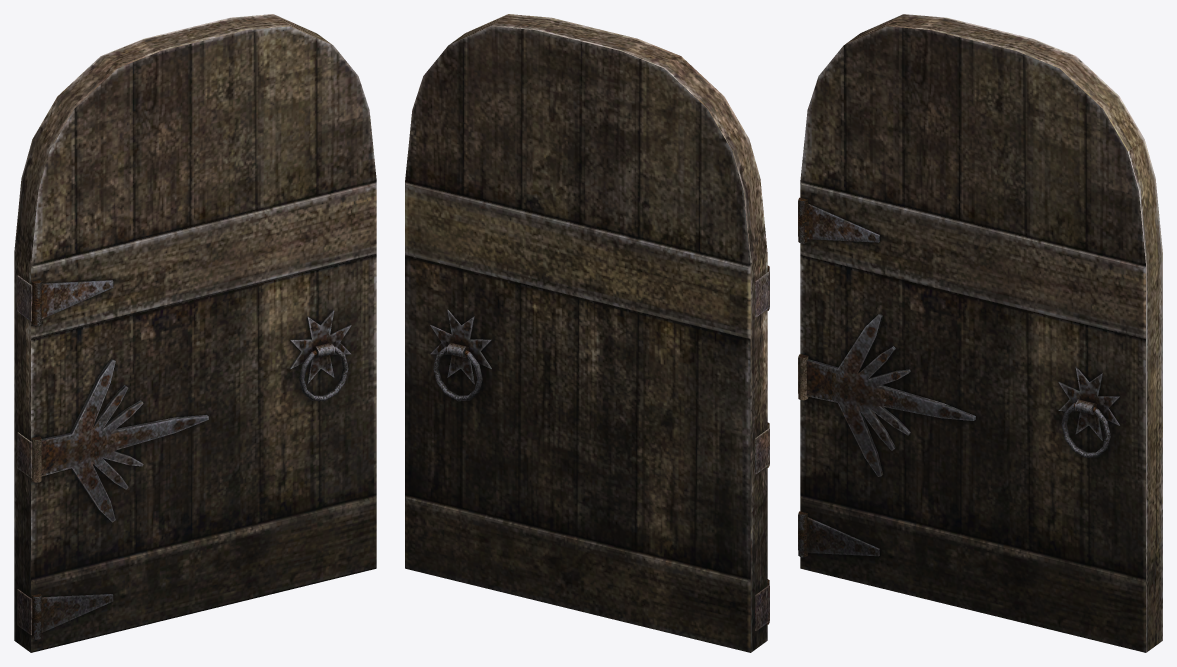
Rendered from castle_arched01.dae.
3 renders of one model, left to right at view 1: azimuth 30°, elevation 25°; view 2: azimuth 150°, elevation 25°; view 3: azimuth 330°, elevation 25°, orthographic.
Parts seen in each view (by area): view 1: Door04, Scene_Root1; view 2: Door04, Scene_Root1; view 3: Door04, Scene_Root1.
Boxes of the visible parts, bbox=[...] form: Door04: bbox=[14, 14, 376, 652]; Scene_Root1: bbox=[17, 275, 41, 639]; Door04: bbox=[405, 14, 769, 652]; Scene_Root1: bbox=[755, 271, 769, 630]; Door04: bbox=[798, 14, 1162, 652]; Scene_Root1: bbox=[798, 201, 808, 557].
Size of the model in its own units: 1.75 by 0.2598 by 2.75.
